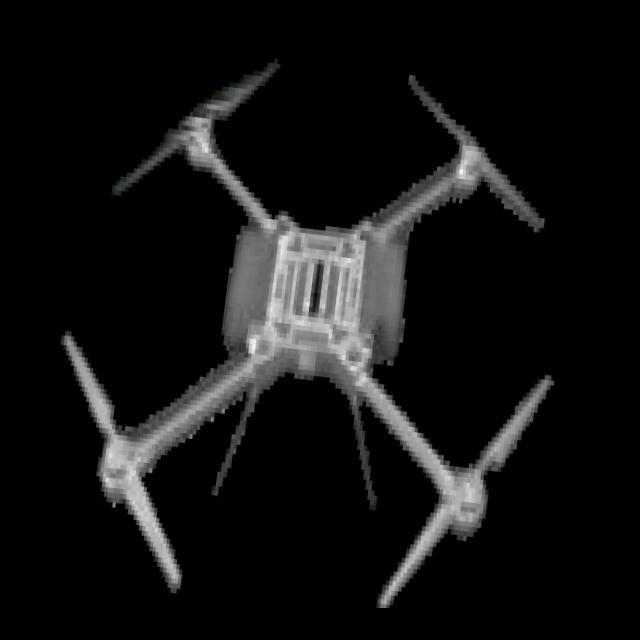drone: (41, 48, 560, 608)
